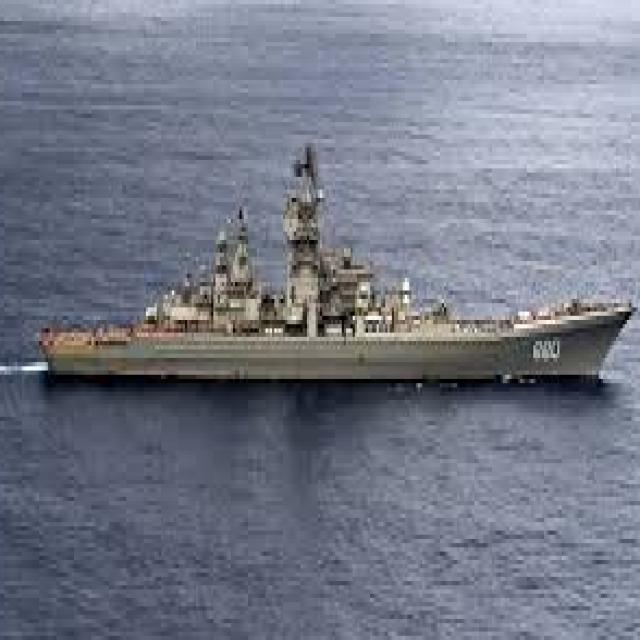navalvessels: (20, 144, 635, 386)
